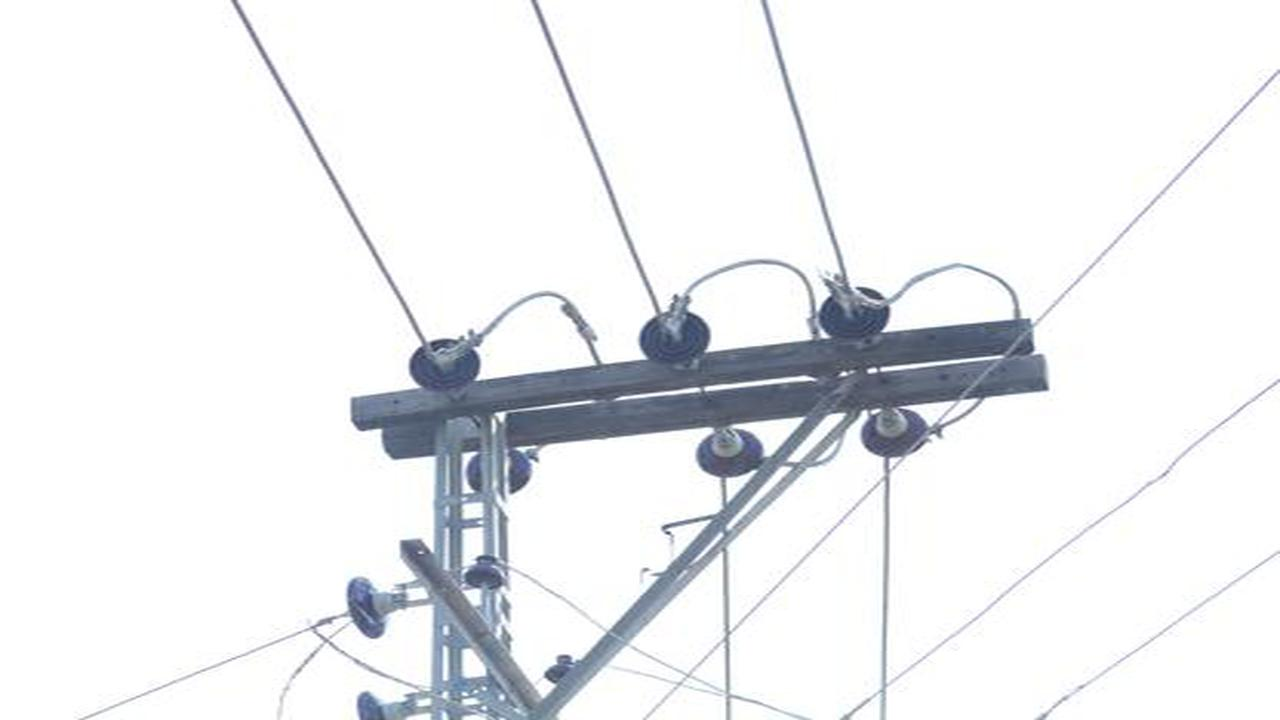insulator_disc: (632, 300, 713, 369), (813, 281, 892, 345), (342, 571, 414, 641), (405, 332, 483, 396), (854, 406, 937, 462), (691, 434, 769, 476)
insulator_pin: (463, 552, 510, 597), (544, 656, 579, 683)
